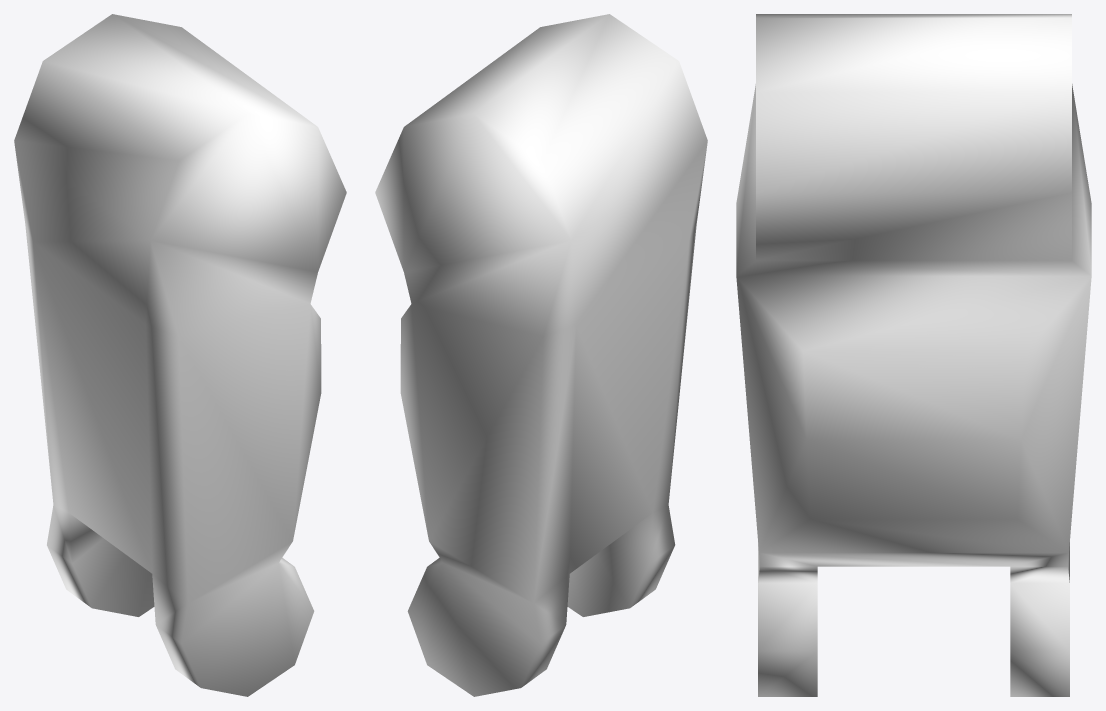
The model's file is pinkyj1_right.obj.
The picture shows the model from 3 angles, left to right: view 1: azimuth 30°, elevation 25°; view 2: azimuth 150°, elevation 25°; view 3: azimuth 270°, elevation 25°; orthographic projection. The views are drawn at different scales.
Size of the model in its own units: 0.019 by 0.0541 by 0.0258.
1 material, 1 textured.
